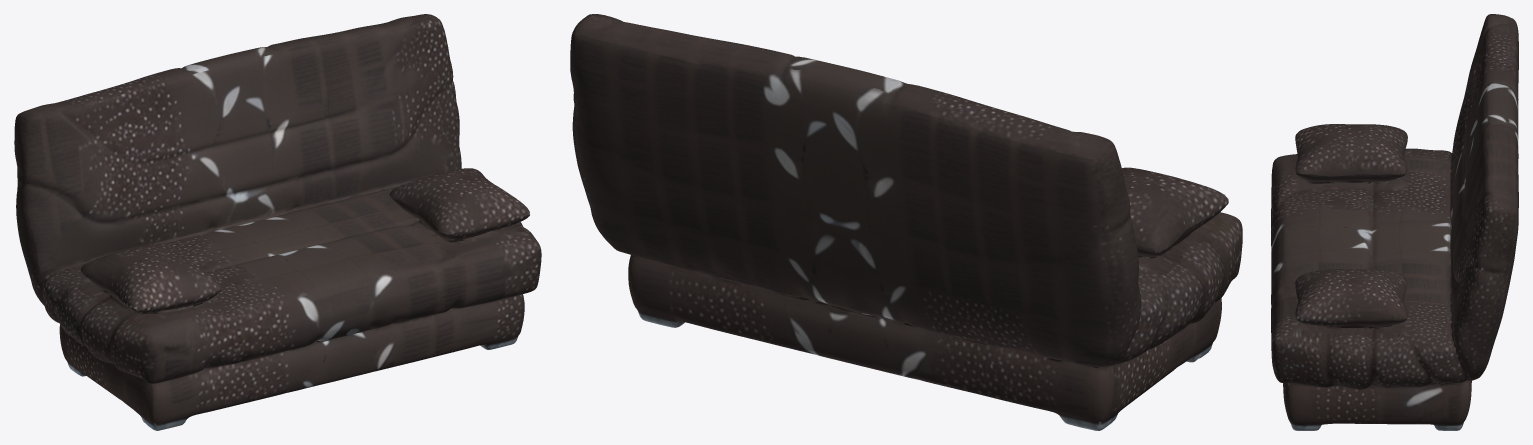
File: canap_hunyuan.obj
3 views of the same model, side by side, from view 1: azimuth 30°, elevation 25°; view 2: azimuth 150°, elevation 25°; view 3: azimuth 270°, elevation 25° (orthographic). The views are drawn at different scales.
Visible parts, largest first — view 1: tmpwfeqq73o.ply; view 2: tmpwfeqq73o.ply; view 3: tmpwfeqq73o.ply.
Boxes of the visible parts, left/top/right/bottom form: tmpwfeqq73o.ply: left=14, top=14, right=541, bottom=430; tmpwfeqq73o.ply: left=570, top=14, right=1242, bottom=430; tmpwfeqq73o.ply: left=1271, top=14, right=1518, bottom=430.
Size of the model in its own units: 1.99 by 1.11 by 1.02.
